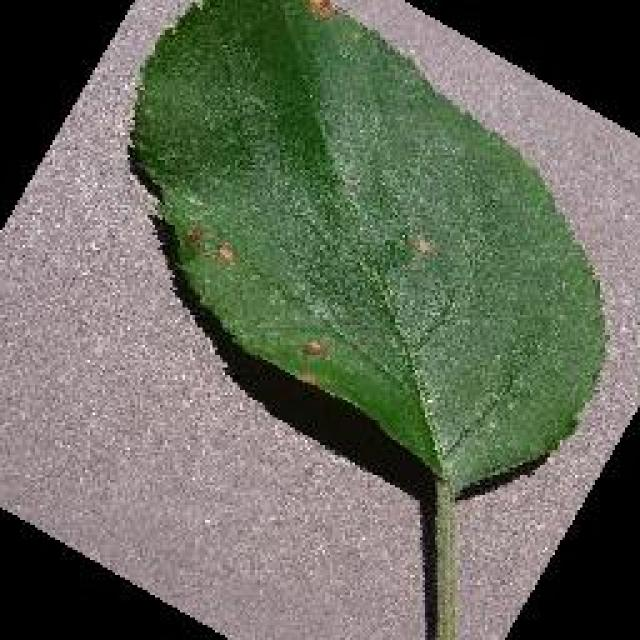Black_rot: (125, 0, 607, 500)
